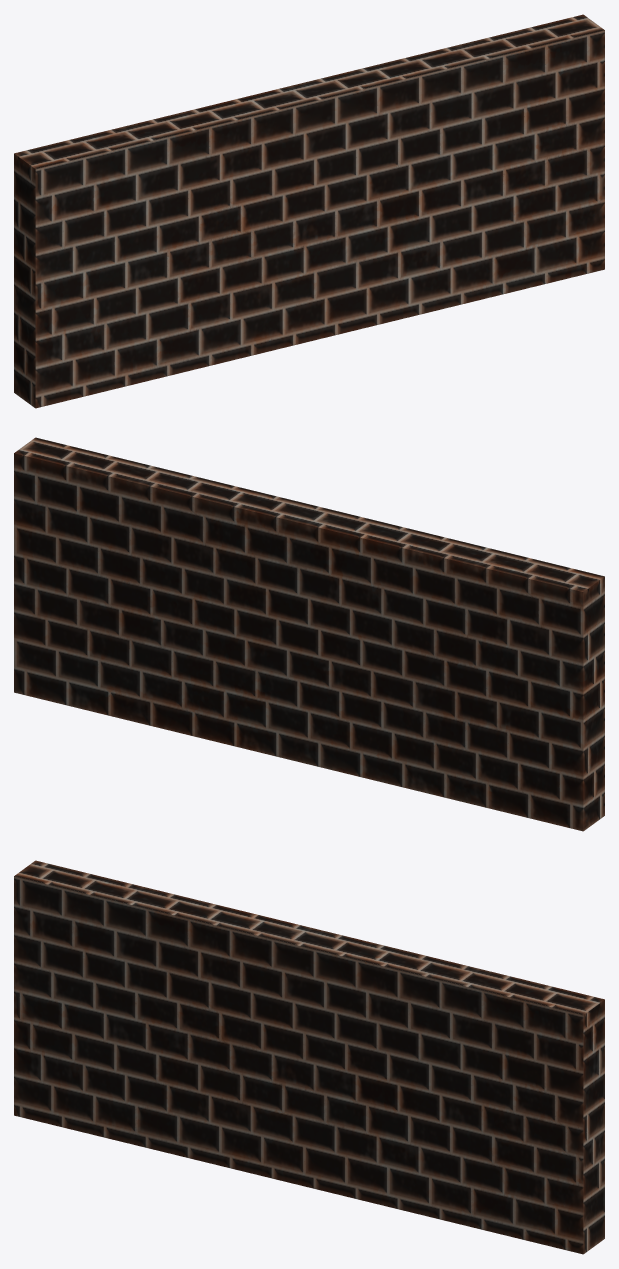
File: WALL.fbx
3 views of the same model, one above another, from view 1: azimuth 30°, elevation 25°; view 2: azimuth 150°, elevation 25°; view 3: azimuth 330°, elevation 25° (orthographic).
Parts seen in each view (by area): view 1: WALL; view 2: WALL; view 3: WALL.
Part boxes in pixels (bbox=[...]): WALL: bbox=[14, 14, 604, 408]; WALL: bbox=[14, 437, 604, 831]; WALL: bbox=[14, 860, 604, 1254].
Bounding box in the file's own units: 1383 × 555 × 90.52.
